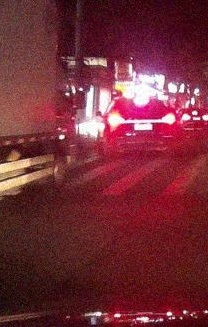L_light: (109, 117, 124, 126)
R_light: (162, 114, 176, 127)
T_light: (133, 98, 150, 103)
night-brake: (104, 96, 179, 158)
